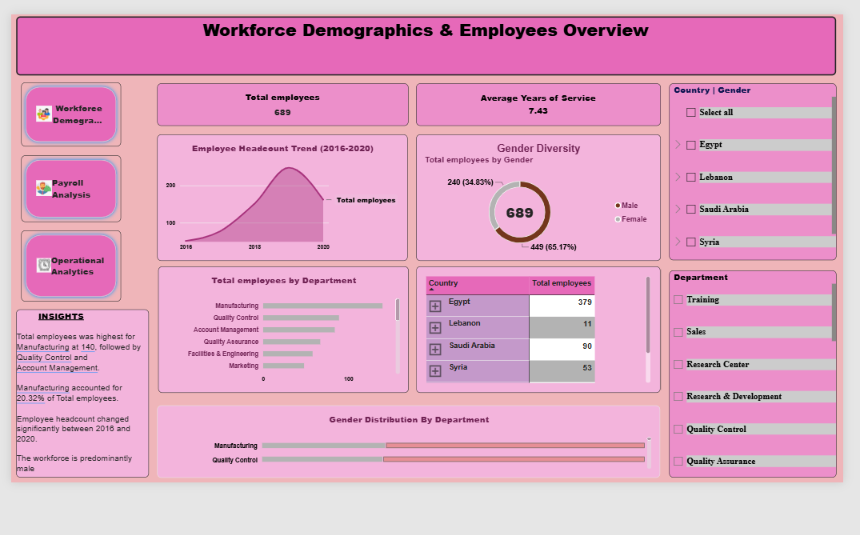

The page's visual inventory and layout, read from the dashboard file:
{"tool":"powerbi","page":{"name":"Workforce Demographics","canvas":[1600,900],"ordinal":0},"visuals":[{"type":"cardVisual","title":"Total Headcount","fields":{"Data":["Employees.Total employees"]},"box":[281.7,133.3,483.3,81.7],"z":0},{"type":"cardVisual","title":"Avg Tenure","fields":{"Data":["Employees.Average_upd_Service"]},"box":[778.3,133.3,470,81.7],"z":1000},{"type":"lineChart","title":"Employee Headcount Trend (2016-2020)","fields":{"Category":["Employees.Start Date.Variation.Date Hierarchy.Year","Employees.Start Date.Variation.Date Hierarchy.Quarter"],"Y":["Employees.Total employees"]},"box":[281.7,230,481.7,243.3],"z":2000},{"type":"textbox","box":[985.9,133.8,384.9,18.5],"z":3000},{"type":"donutChart","title":"Gender Diversity","fields":{"Category":["Employees.Gender"],"Y":["Employees.Total employees"]},"box":[778.3,230,470,243.3],"z":4000},{"type":"clusteredBarChart","fields":{"Category":["Employees.Department"],"Y":["Employees.Total employees"]},"box":[283,485.4,482,243.6],"z":5000},{"type":"pivotTable","title":"Geographical Distribution","fields":{"Rows":["Employees.Country","Employees.Center"],"Values":["Employees.Total employees"]},"box":[778.7,485.4,470,243.6],"z":6000},{"type":"slicer","fields":{"Values":["Employees.Country","Employees.Gender"]},"box":[1265,133.3,321.7,340],"z":7000},{"type":"slicer","fields":{"Values":["Employees.Department"]},"box":[1265,491.7,321.7,398.3],"z":8000},{"type":"actionButton","box":[1687.8,916,141.2,83.2],"z":9000},{"type":"textbox","box":[1371,778,510,223],"z":10000},{"type":"textbox","box":[10,3.3,1576.7,113.3],"z":11000},{"type":"actionButton","title":"Employees","box":[20,131.7,191.7,123.3],"z":12000},{"type":"actionButton","title":"Employees","box":[20,415,191.7,136.7],"z":13000},{"type":"actionButton","title":"Employees","box":[20,271.7,191.7,128.3],"z":14000},{"type":"textbox","box":[10,566.7,255,323.3],"z":16000},{"type":"hundredPercentStackedBarChart","title":"Gender Distribution By Department","fields":{"Category":["Employees.Department"],"Series":["Employees.Gender"],"Y":["CountNonNull(Employees.First Name)"]},"box":[281.3,751.3,967.4,138.9],"z":16001}]}

Visuals, with their boxes on the page's 1600x900 design canvas (x1, y1, x2, y2). These are canvas units, not pixel positions in the 860x535 screenshot, which may show the page scaled, cropped or inside an application window:
"Total Headcount" cardVisual: bbox=[282, 133, 765, 215]
"Avg Tenure" cardVisual: bbox=[778, 133, 1248, 215]
"Employee Headcount Trend (2016-2020)" lineChart: bbox=[282, 230, 763, 473]
textbox: bbox=[986, 134, 1371, 152]
"Gender Diversity" donutChart: bbox=[778, 230, 1248, 473]
clusteredBarChart - Employees.Department x Employees.Total employees: bbox=[283, 485, 765, 729]
"Geographical Distribution" pivotTable: bbox=[779, 485, 1249, 729]
slicer - Employees.Country x Employees.Gender: bbox=[1265, 133, 1587, 473]
slicer - Employees.Department: bbox=[1265, 492, 1587, 890]
actionButton: bbox=[1688, 916, 1829, 999]
textbox: bbox=[1371, 778, 1881, 1001]
textbox: bbox=[10, 3, 1587, 117]
"Employees" actionButton: bbox=[20, 132, 212, 255]
"Employees" actionButton: bbox=[20, 415, 212, 552]
"Employees" actionButton: bbox=[20, 272, 212, 400]
textbox: bbox=[10, 567, 265, 890]
"Gender Distribution By Department" hundredPercentStackedBarChart: bbox=[281, 751, 1249, 890]
